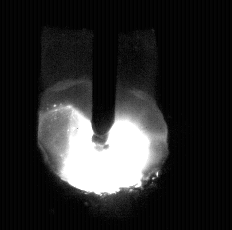arame: (92, 0, 116, 144)
poca: (36, 0, 167, 230)
